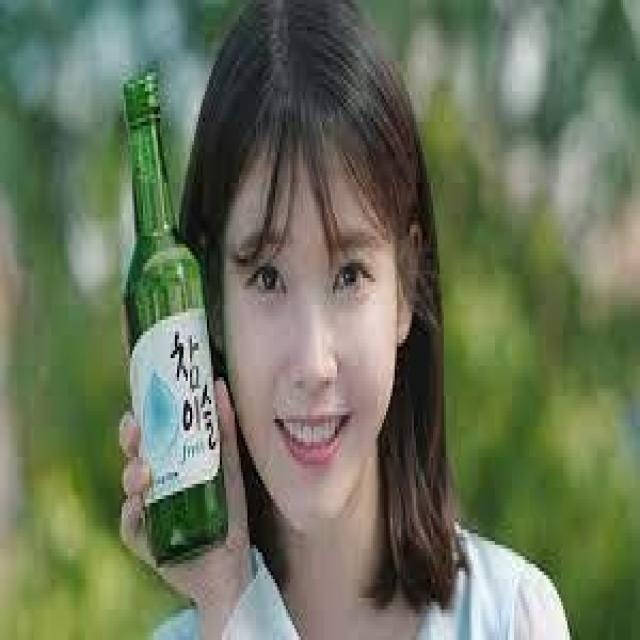soju-bottle: (115, 69, 233, 564)
